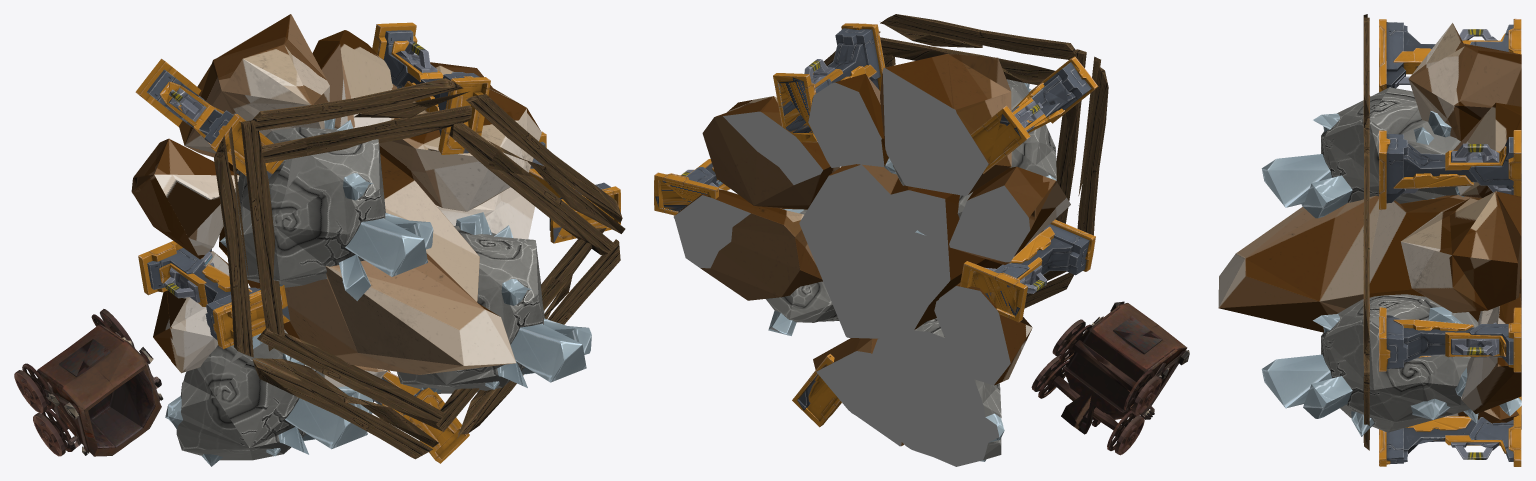
File: quarry.obj
3 renders of one model, left to right at view 1: azimuth 30°, elevation 25°; view 2: azimuth 150°, elevation 25°; view 3: azimuth 270°, elevation 25°, orthographic. The views are drawn at different scales.
Parts seen in each view (by area): view 1: Object.1; view 2: Object.1; view 3: Object.1.
Part boxes in pixels (<box>): Object.1: <box>14,14,625,466</box>; Object.1: <box>654,14,1189,466</box>; Object.1: <box>1218,14,1521,466</box>.
Bounding box in the file's own units: 79.3 × 59.95 × 42.98.
Materials: 7 (7 with a texture image).
